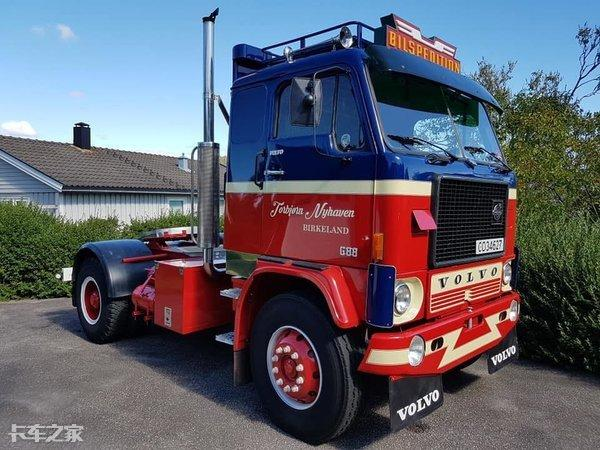卡车: (65, 11, 522, 447)
